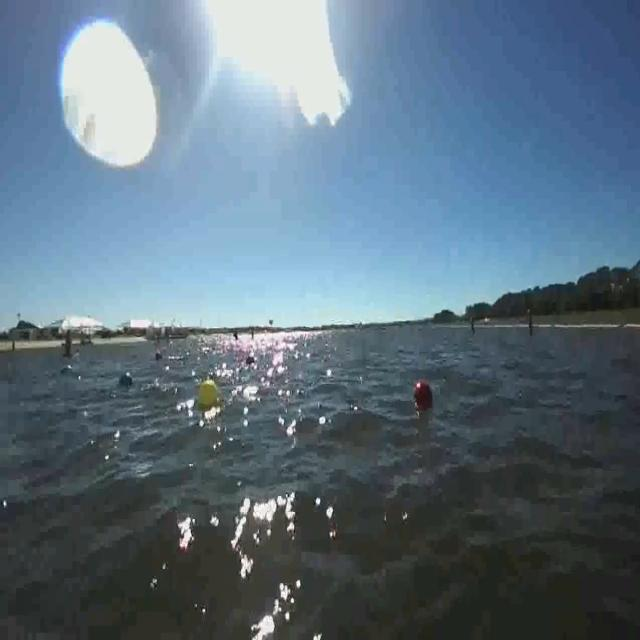red-buoy: (414, 378, 433, 408)
yellow-buoy: (197, 377, 222, 408)
